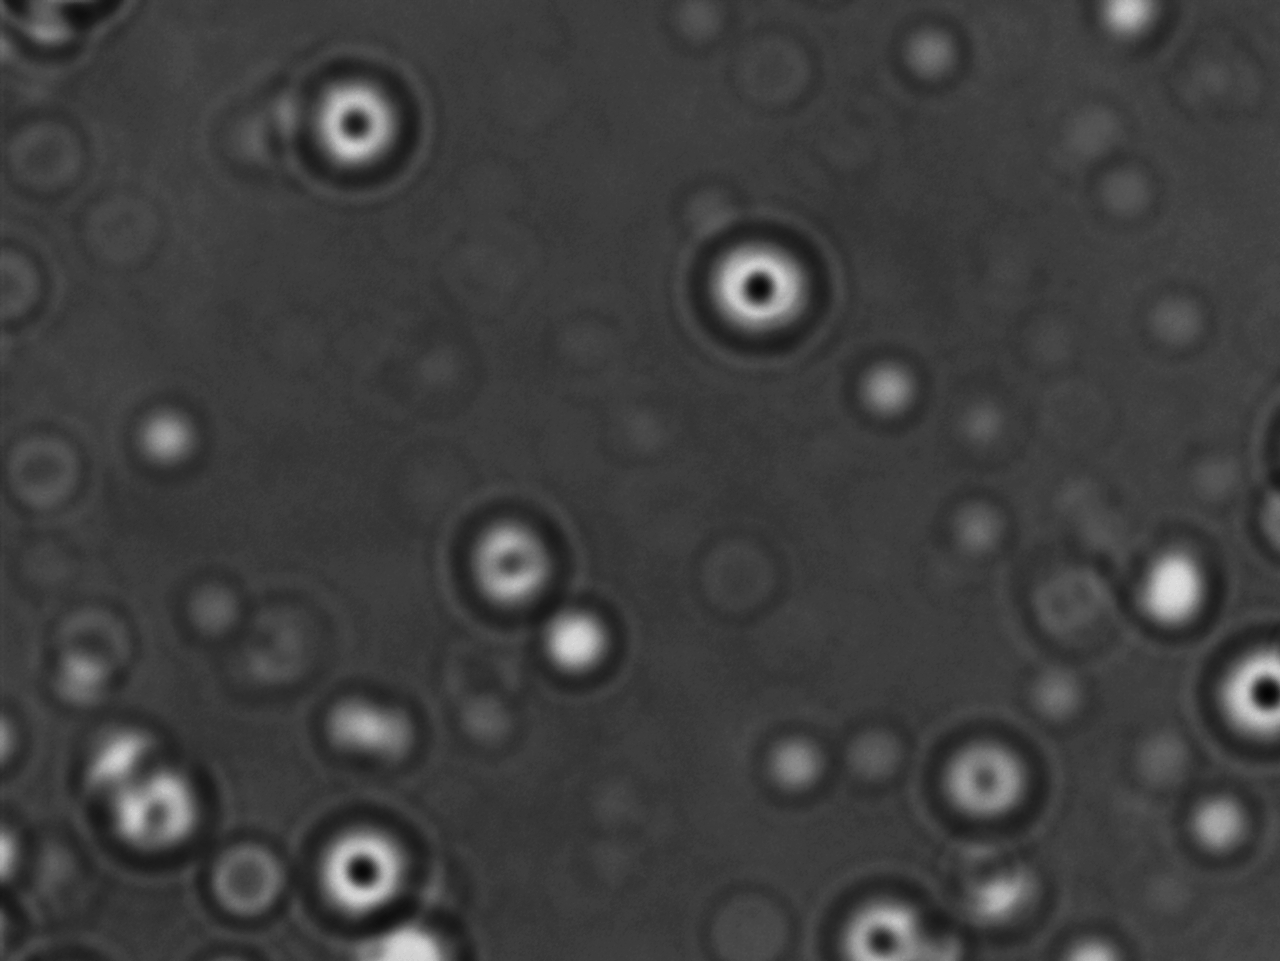depth:24: (681, 214, 833, 366), (293, 55, 433, 203), (295, 799, 429, 929), (1199, 625, 1280, 756)
